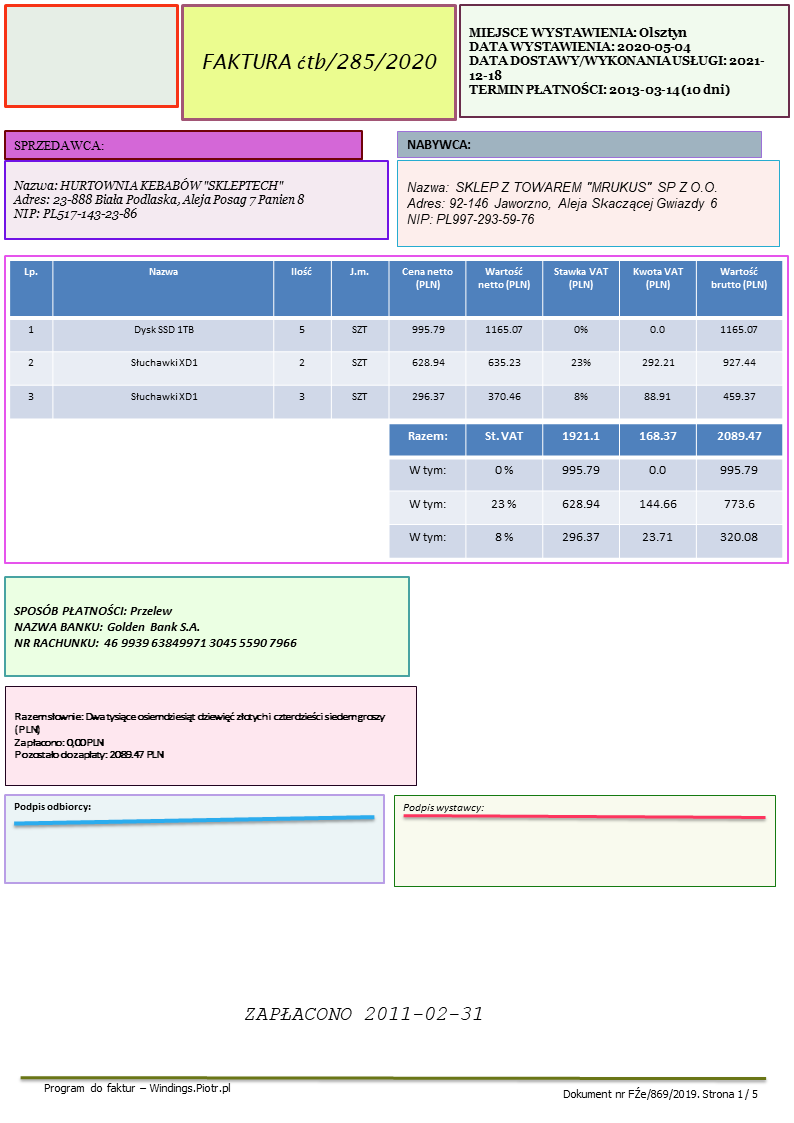Table: (8, 260, 782, 420), (387, 422, 784, 559)
TextBox: (467, 25, 766, 98), (11, 709, 388, 761), (405, 178, 720, 228), (12, 602, 299, 651), (11, 177, 304, 222), (200, 48, 438, 75), (243, 1005, 485, 1025), (560, 1085, 759, 1106), (41, 1081, 232, 1097), (11, 138, 106, 154), (10, 800, 96, 815), (405, 137, 472, 154), (401, 802, 485, 815)
